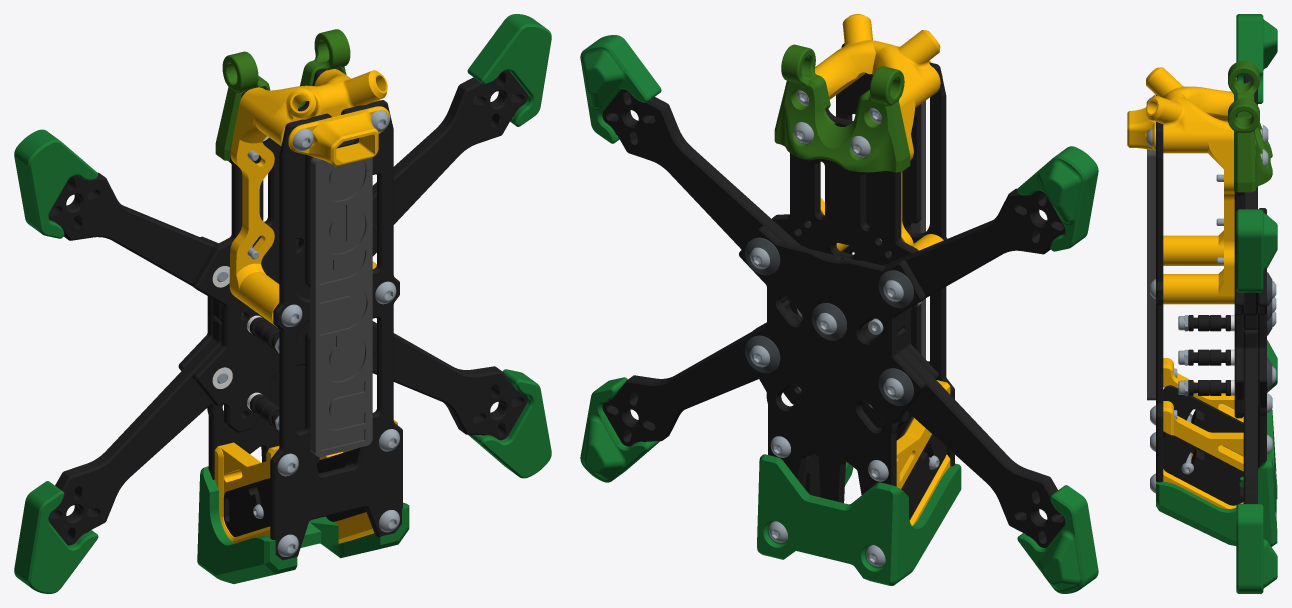
Rendered from openframe-3in.glb.
3 views of the same model, side by side, from view 1: azimuth 30°, elevation 25°; view 2: azimuth 150°, elevation 25°; view 3: azimuth 270°, elevation 25° (orthographic). The views are drawn at different scales.
Parts seen in each view (by area): view 1: occurrence of Top (4), occurrence of anti-slip pad (3), occurrence of Base-Top (20), occurrence of VTX-Mount (80), occurrence of Arm (45), occurrence of Arm (54), occurrence of Arm (36), occurrence of Arm (25), occurrence of Bumpr (72), occurrence of bootFR (5), occurrence of bootRL (70), occurrence of bootRR (64) (+8 smaller); view 2: occurrence of Base-Bot (55), occurrence of Bumpr (72), occurrence of Base-Top (20), occurrence of Airtag/Antenna-Mount (6), occurrence of Arm (45), occurrence of Arm (36), occurrence of Top (4), occurrence of Arm (25), occurrence of Arm (54), occurrence of VTX-Mount (80), occurrence of bootFR (5), occurrence of bootRL (70) (+10 smaller); view 3: occurrence of VTX-Mount (80), occurrence of Bumpr (72), occurrence of Airtag/Antenna-Mount (6), occurrence of Cam-Mount-L (39), occurrence of bootFL (68), occurrence of bootRL (70), occurrence of Top (4), occurrence of Standoff-L (41), occurrence of Arm (25), occurrence of bootRR (64), occurrence of anti-slip pad (3), occurrence of Cam-Mount-R (0) (+13 smaller).
Part boxes in pixels (x1,y1,x2,y2): occurrence of Top (4): [270, 100, 402, 560]; occurrence of anti-slip pad (3): [310, 157, 372, 457]; occurrence of Base-Top (20): [192, 67, 376, 432]; occurrence of VTX-Mount (80): [229, 69, 387, 327]; occurrence of Arm (45): [48, 317, 221, 545]; occurrence of Arm (54): [48, 172, 221, 320]; occurrence of Arm (36): [296, 70, 527, 246]; occurrence of Arm (25): [372, 321, 527, 440]; occurrence of Bumpr (72): [197, 466, 409, 583]; occurrence of bootFR (5): [14, 481, 98, 593]; occurrence of bootRL (70): [467, 14, 551, 126]; occurrence of bootRR (64): [14, 129, 98, 238]; occurrence of Base-Bot (55): [739, 226, 925, 502]; occurrence of Bumpr (72): [757, 454, 961, 585]; occurrence of Base-Top (20): [753, 109, 938, 427]; occurrence of Airtag/Antenna-Mount (6): [774, 44, 910, 172]; occurrence of Arm (45): [862, 321, 1065, 547]; occurrence of Arm (36): [602, 89, 841, 303]; occurrence of Top (4): [836, 43, 954, 466]; occurrence of Arm (25): [602, 299, 802, 446]; occurrence of Arm (54): [840, 188, 1065, 331]; occurrence of VTX-Mount (80): [814, 14, 943, 251]; occurrence of bootFR (5): [1017, 485, 1098, 593]; occurrence of bootRL (70): [580, 35, 661, 143]; occurrence of VTX-Mount (80): [1146, 67, 1234, 304]; occurrence of Bumpr (72): [1156, 409, 1277, 546]; occurrence of Airtag/Antenna-Mount (6): [1228, 60, 1272, 192]; occurrence of Cam-Mount-L (39): [1163, 431, 1243, 505]; occurrence of bootFL (68): [1236, 504, 1277, 593]; occurrence of bootRL (70): [1236, 209, 1277, 292]; occurrence of Top (4): [1156, 95, 1163, 482]; occurrence of Standoff-L (41): [1163, 401, 1243, 508]; occurrence of Arm (25): [1243, 328, 1257, 503]; occurrence of bootRR (64): [1236, 14, 1277, 103]; occurrence of anti-slip pad (3): [1147, 149, 1155, 400]; occurrence of Cam-Mount-R (0): [1163, 385, 1243, 453].
Size of the model in its own units: 0.1423 by 0.1348 by 0.042.
